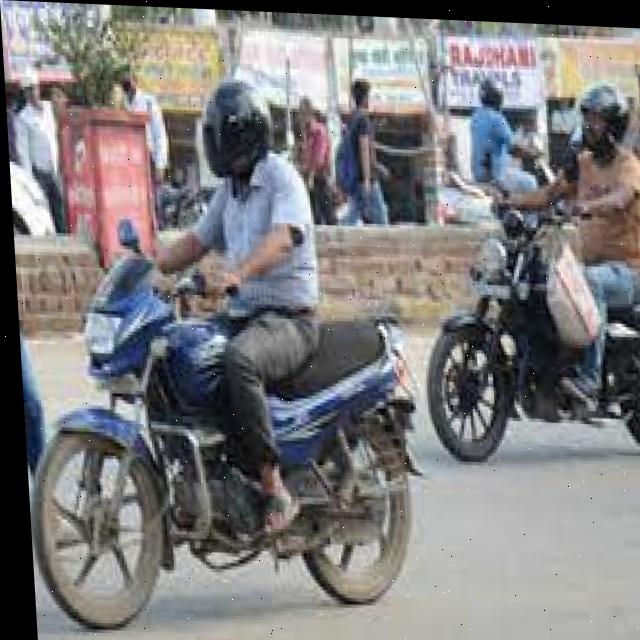Helmet: (197, 76, 275, 182), (570, 75, 633, 149)
